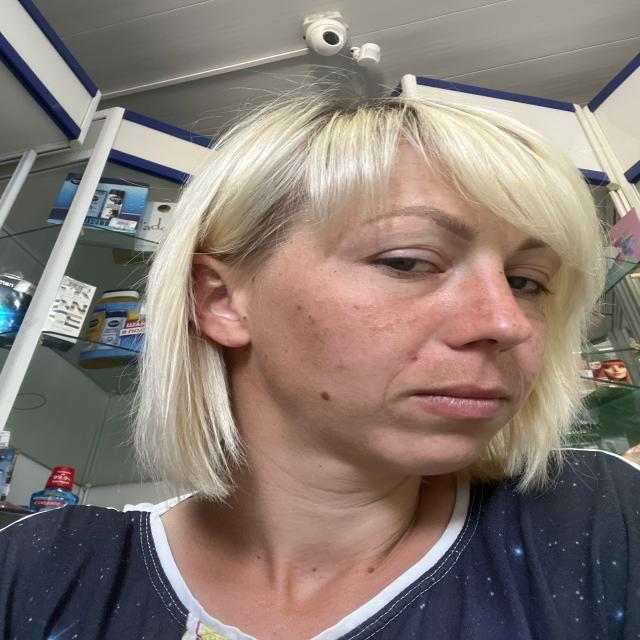Acne: (404, 348, 421, 364), (293, 304, 303, 312)
Englarged-Pores: (356, 304, 415, 339)
Wrinkles: (378, 367, 405, 411), (509, 354, 525, 405)
